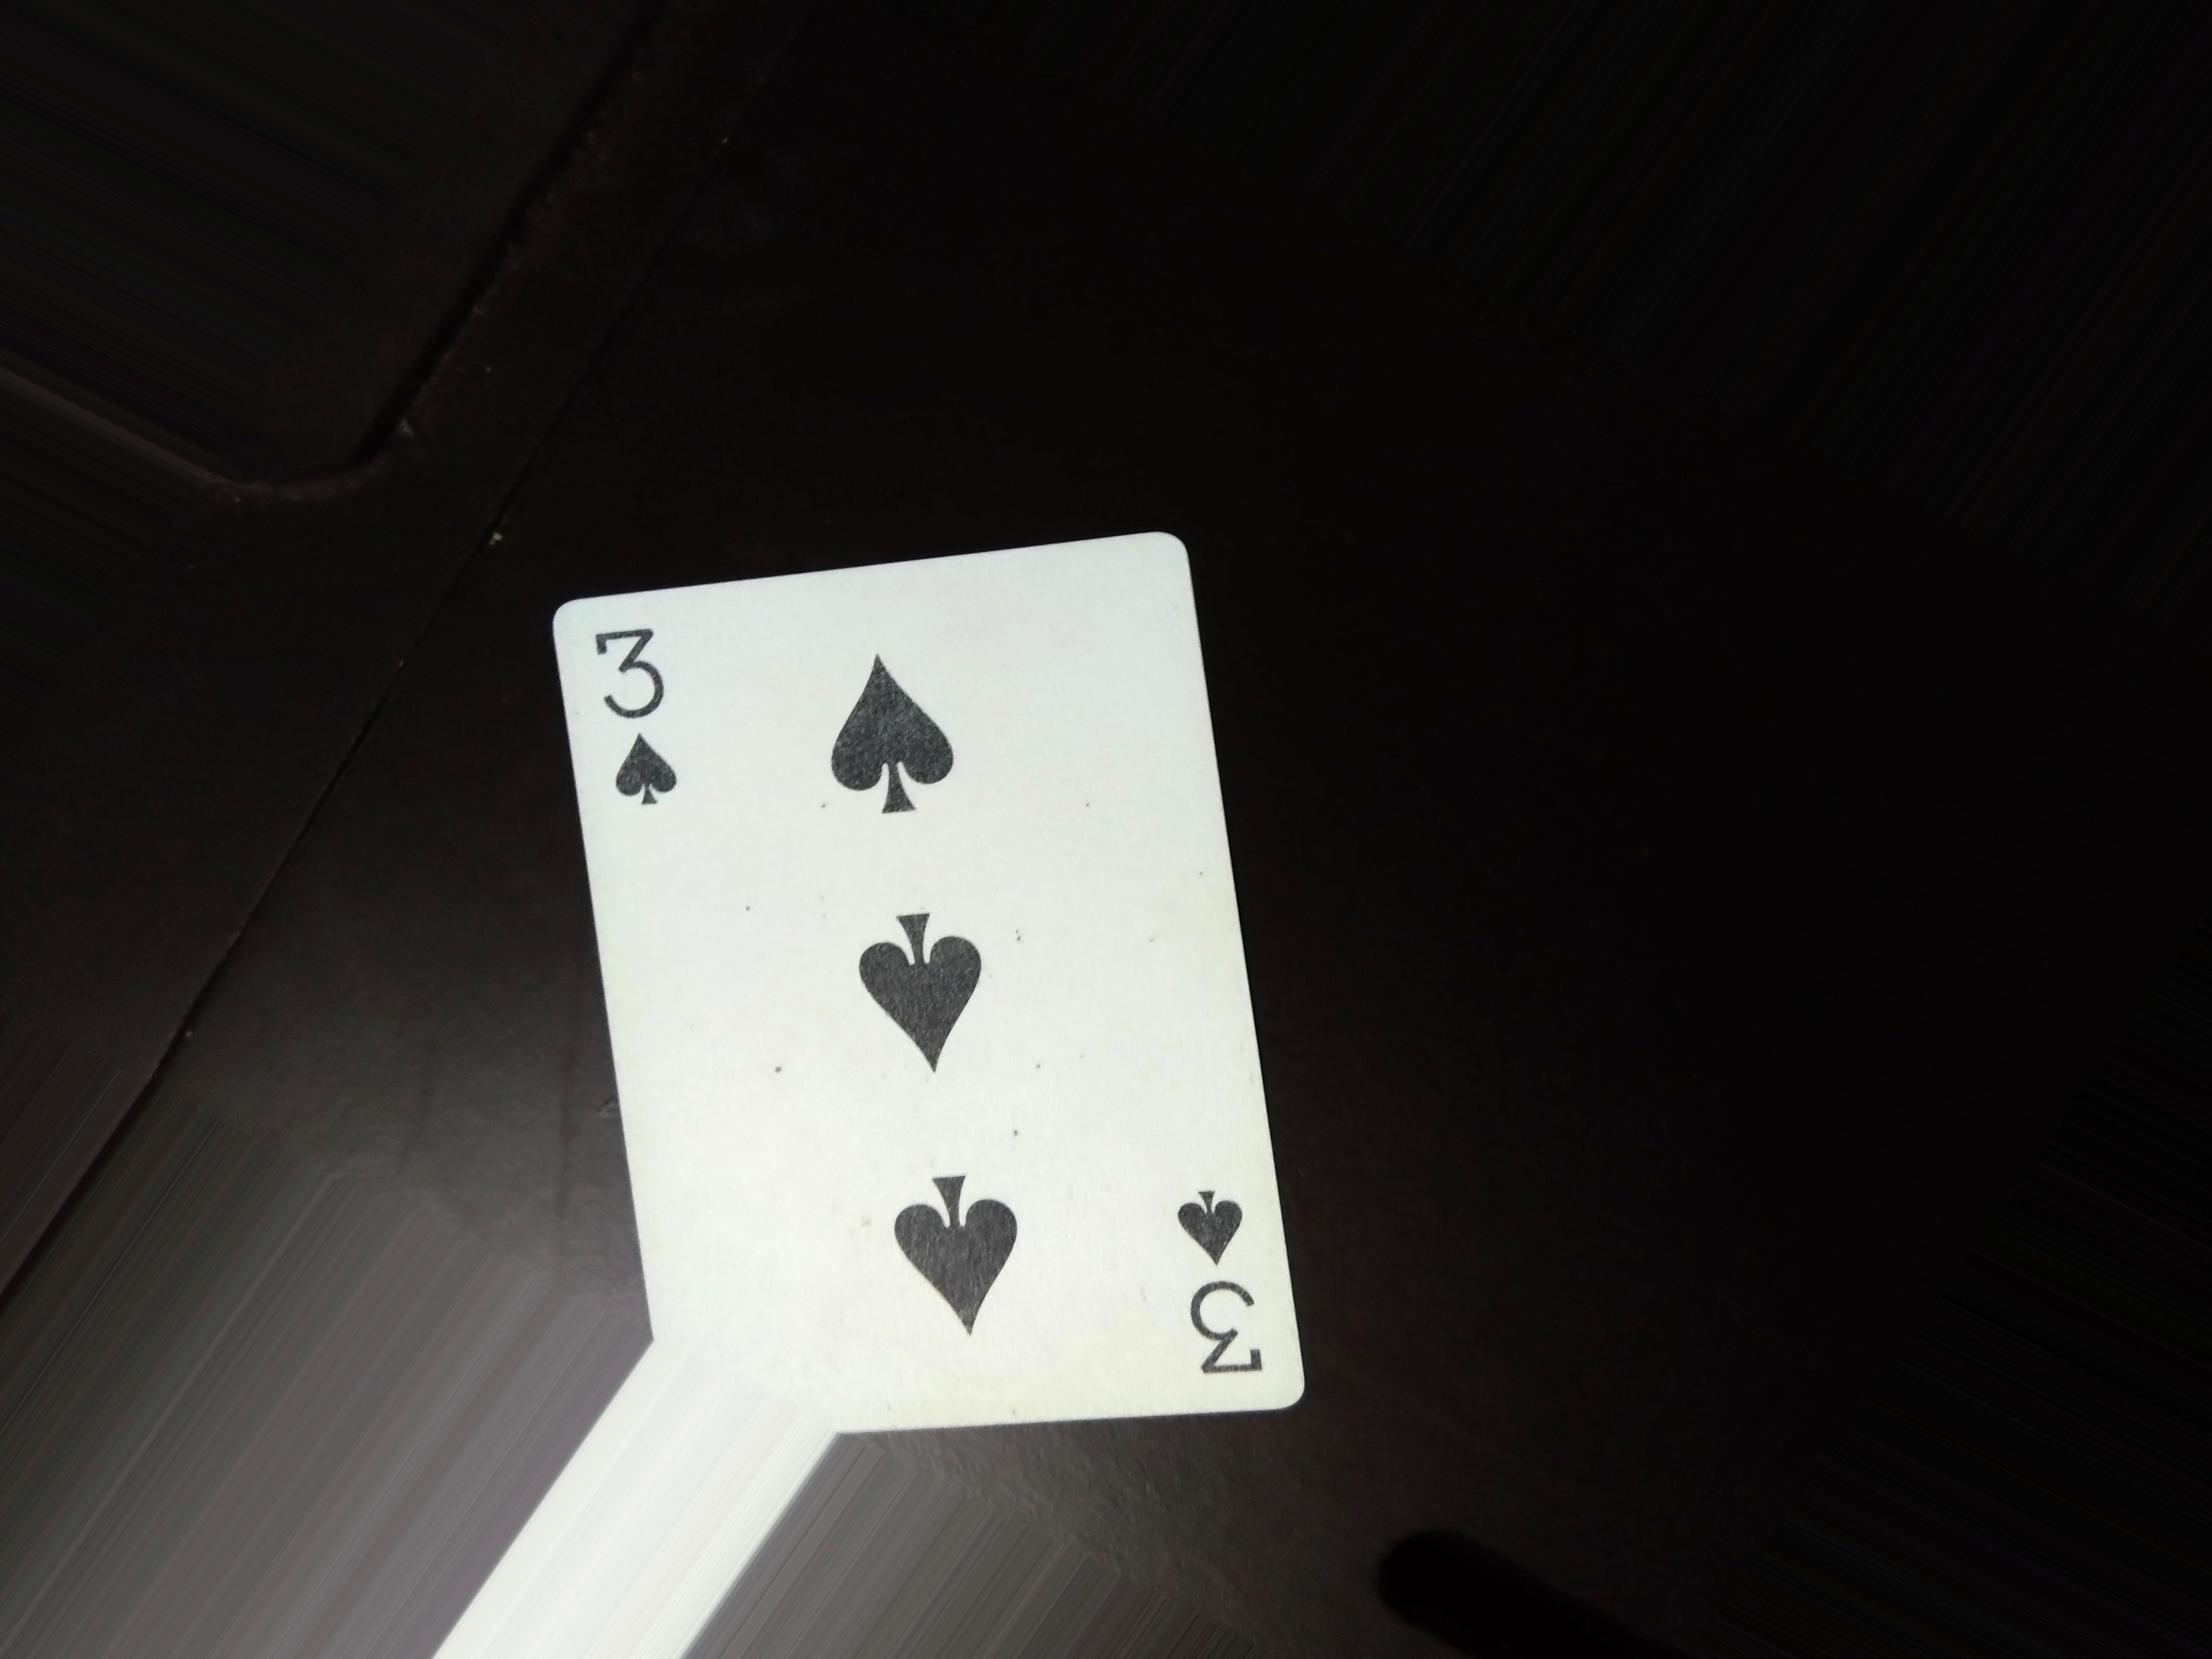3S: (1160, 1178, 1287, 1392)
